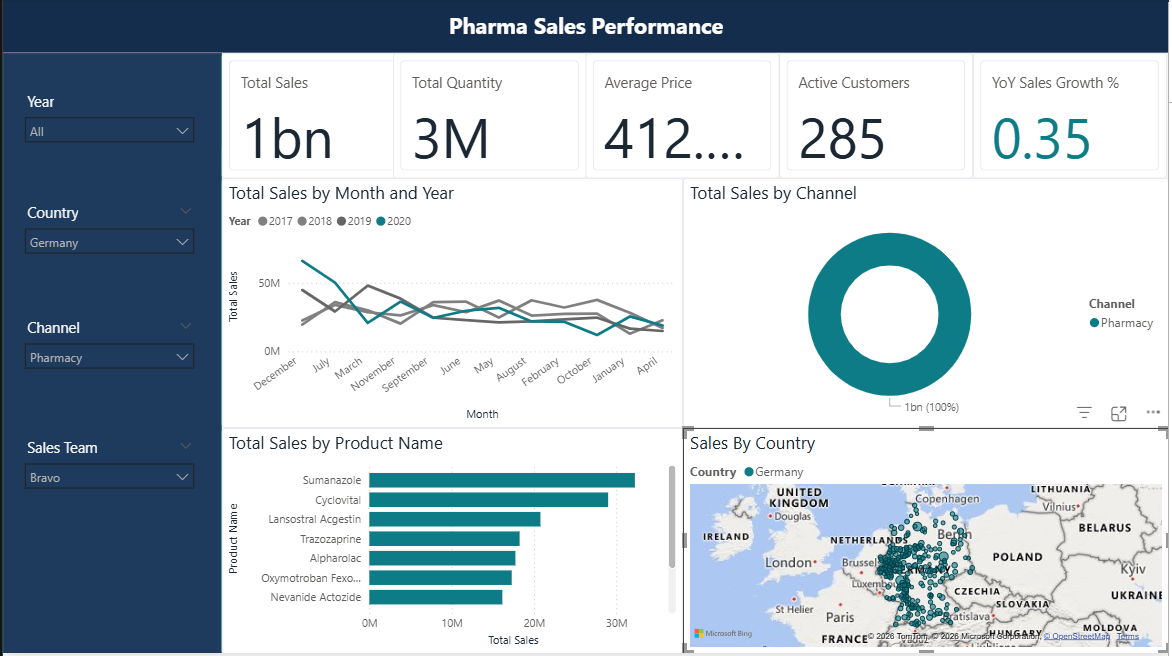

What the dashboard file says about the page in this screenshot:
{"tool":"powerbi","page":{"name":"Pharma Sales Performance","canvas":[1280,720],"ordinal":0},"visuals":[{"type":"shape","box":[0,0,1280.3,60],"z":0},{"type":"shape","box":[0,60.4,240,660],"z":1000},{"type":"slicer","fields":{"Values":["cleaned_pharma_sales.Year"]},"box":[13.7,97.4,205.8,90.6],"z":2000},{"type":"slicer","fields":{"Values":["cleaned_pharma_sales.Country"]},"box":[13.7,219.6,205.8,90.6],"z":3000},{"type":"slicer","fields":{"Values":["cleaned_pharma_sales.Channel"]},"box":[13.7,345.8,205.8,90.6],"z":4000},{"type":"slicer","fields":{"Values":["cleaned_pharma_sales.Sales Team"]},"box":[13.7,477.5,205.8,90.6],"z":5000},{"type":"cardVisual","fields":{"Data":["cleaned_pharma_sales.Total Sales"]},"box":[240.1,60.4,212.7,137.2],"z":6000},{"type":"cardVisual","fields":{"Data":["cleaned_pharma_sales.Total Quantity"]},"box":[428.1,60.4,212.7,137.2],"z":7000},{"type":"cardVisual","fields":{"Data":["cleaned_pharma_sales.Average Price"]},"box":[639.5,60.4,212.7,137.2],"z":8000},{"type":"cardVisual","fields":{"Data":["cleaned_pharma_sales.Active Customers"]},"box":[852.1,60.4,212.7,137.2],"z":9000},{"type":"cardVisual","fields":{"Data":["cleaned_pharma_sales.YoY Sales Growth %"]},"box":[1064.8,60.4,212.7,137.2],"z":10000},{"type":"lineChart","fields":{"Category":["cleaned_pharma_sales.Month"],"Y":["cleaned_pharma_sales.Total Sales"],"Series":["cleaned_pharma_sales.Year"]},"box":[240.1,197.6,506.3,274.4],"z":11000},{"type":"donutChart","fields":{"Category":["cleaned_pharma_sales.Channel","cleaned_pharma_sales.Sub-channel"],"Y":["cleaned_pharma_sales.Total Sales"]},"box":[746.5,197.6,533.8,274.4],"z":12000},{"type":"clusteredBarChart","fields":{"Category":["cleaned_pharma_sales.Product Name"],"Y":["cleaned_pharma_sales.Total Sales"]},"box":[240.1,472,506.3,248.4],"z":13000},{"type":"map","title":"Sales By Country","fields":{"Y":["cleaned_pharma_sales.Latitude"],"X":["cleaned_pharma_sales.Longitude"],"Size":["cleaned_pharma_sales.Total Sales"],"Series":["cleaned_pharma_sales.Country"]},"box":[746.5,472,533.8,248.4],"z":14000}]}

Visuals, with their boxes in screenshot pixels (x1, y1, x2, y2), scaled from the page's 1280x720 canvas onto the 1172x656 screenshot:
shape: (0, 0, 1171, 55)
shape: (0, 55, 220, 655)
slicer - cleaned_pharma_sales.Year: (13, 89, 201, 171)
slicer - cleaned_pharma_sales.Country: (13, 200, 201, 283)
slicer - cleaned_pharma_sales.Channel: (13, 315, 201, 398)
slicer - cleaned_pharma_sales.Sales Team: (13, 435, 201, 518)
cardVisual - cleaned_pharma_sales.Total Sales: (220, 55, 415, 180)
cardVisual - cleaned_pharma_sales.Total Quantity: (392, 55, 587, 180)
cardVisual - cleaned_pharma_sales.Average Price: (586, 55, 780, 180)
cardVisual - cleaned_pharma_sales.Active Customers: (780, 55, 975, 180)
cardVisual - cleaned_pharma_sales.YoY Sales Growth %: (975, 55, 1170, 180)
lineChart - cleaned_pharma_sales.Month x cleaned_pharma_sales.Total Sales: (220, 180, 683, 430)
donutChart - cleaned_pharma_sales.Channel x cleaned_pharma_sales.Sub-channel: (684, 180, 1171, 430)
clusteredBarChart - cleaned_pharma_sales.Product Name x cleaned_pharma_sales.Total Sales: (220, 430, 683, 655)
"Sales By Country" map: (684, 430, 1171, 655)
